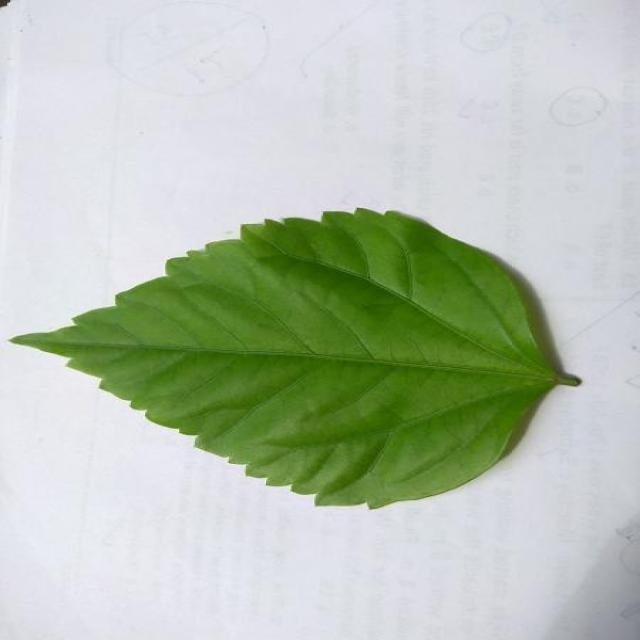Hibiscus: (13, 209, 580, 508)
